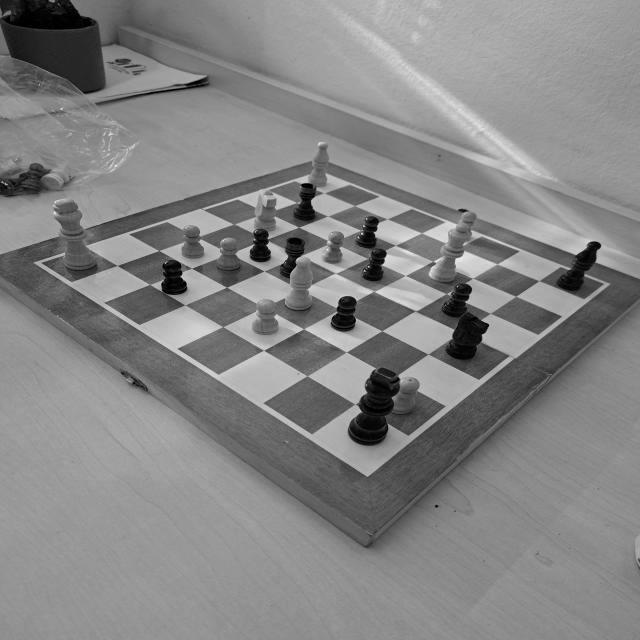chess-table-corners: (349, 456, 382, 479), (590, 276, 616, 293), (30, 254, 54, 272), (306, 166, 332, 181)
